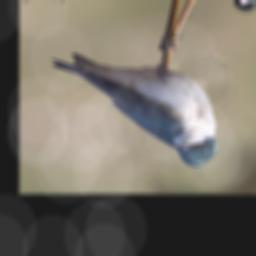Swallow: (49, 53, 218, 168)
